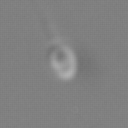normal: (35, 1, 63, 45)
